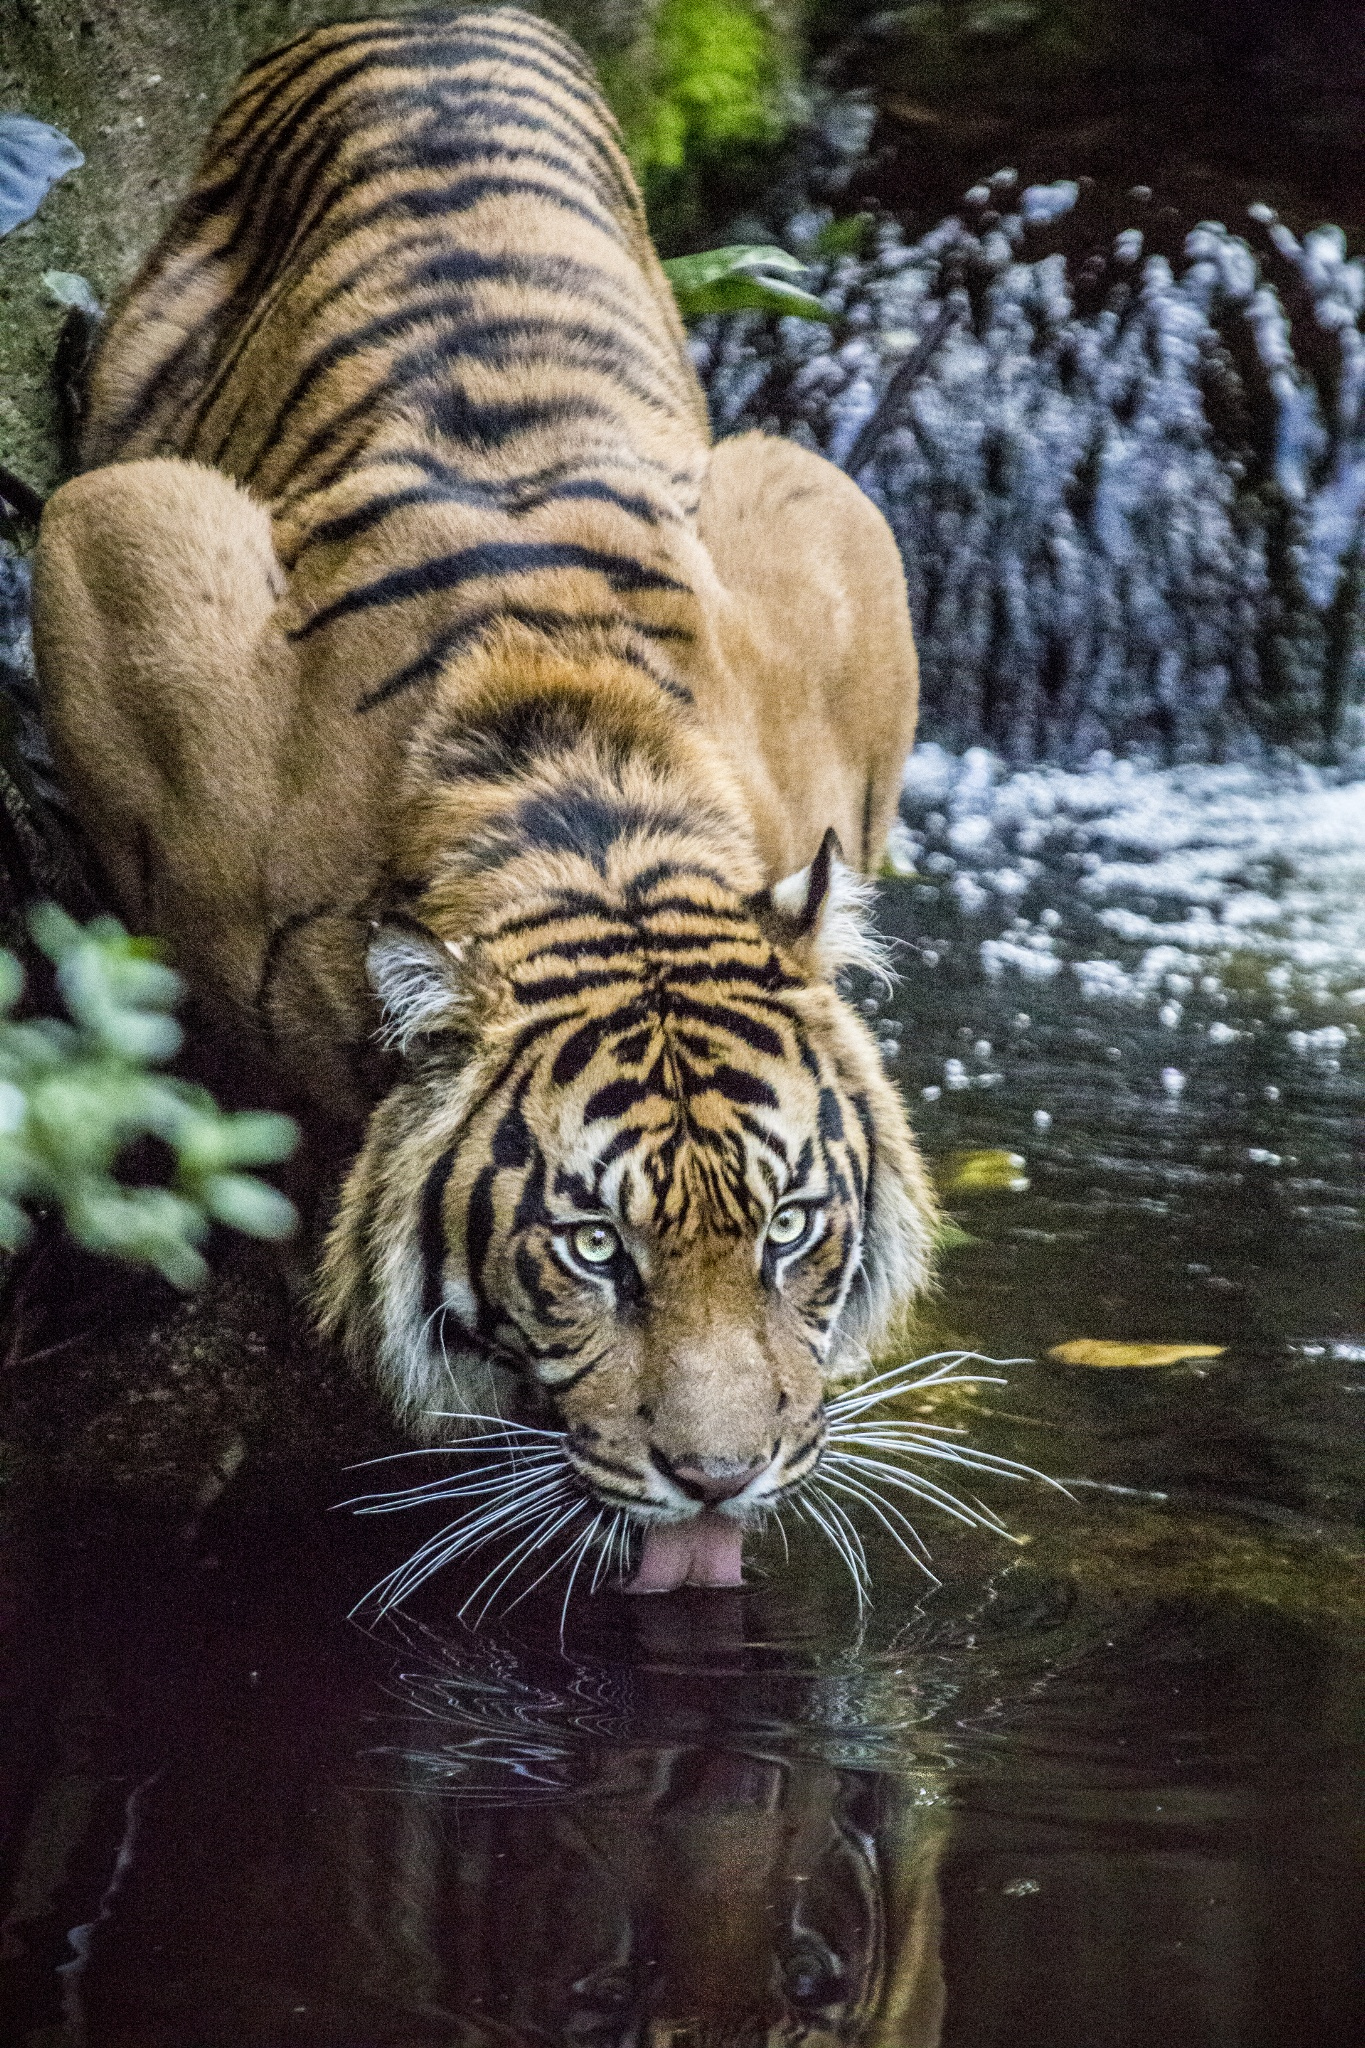tiger: (120, 26, 967, 1533)
